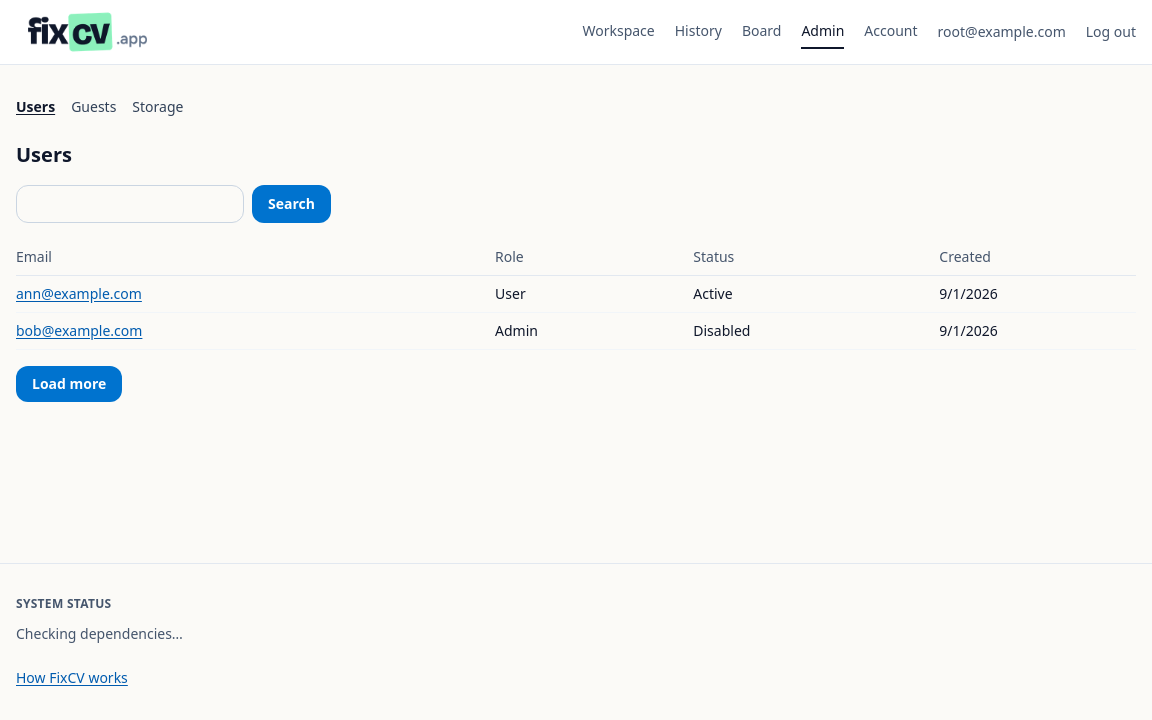
Test case: /admin user list — AC-32 search › submitting writes ?q= to the URL and refetches from page 1 with that q
Expected: the link "bob@example.com" is shown, [16,321,142,340]
Type "ann" into the search field named "Search by email" at point(130, 204), box [16,185,244,223]
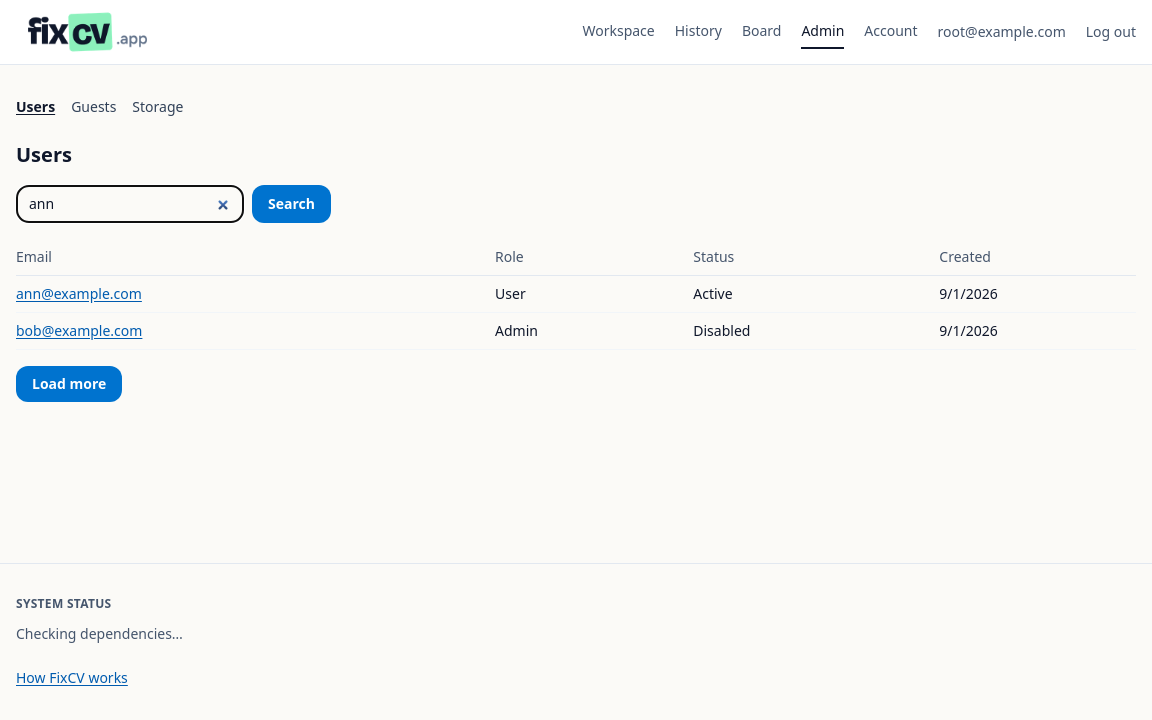
Click the button "Search" at point(291, 204), box [252,185,331,223]
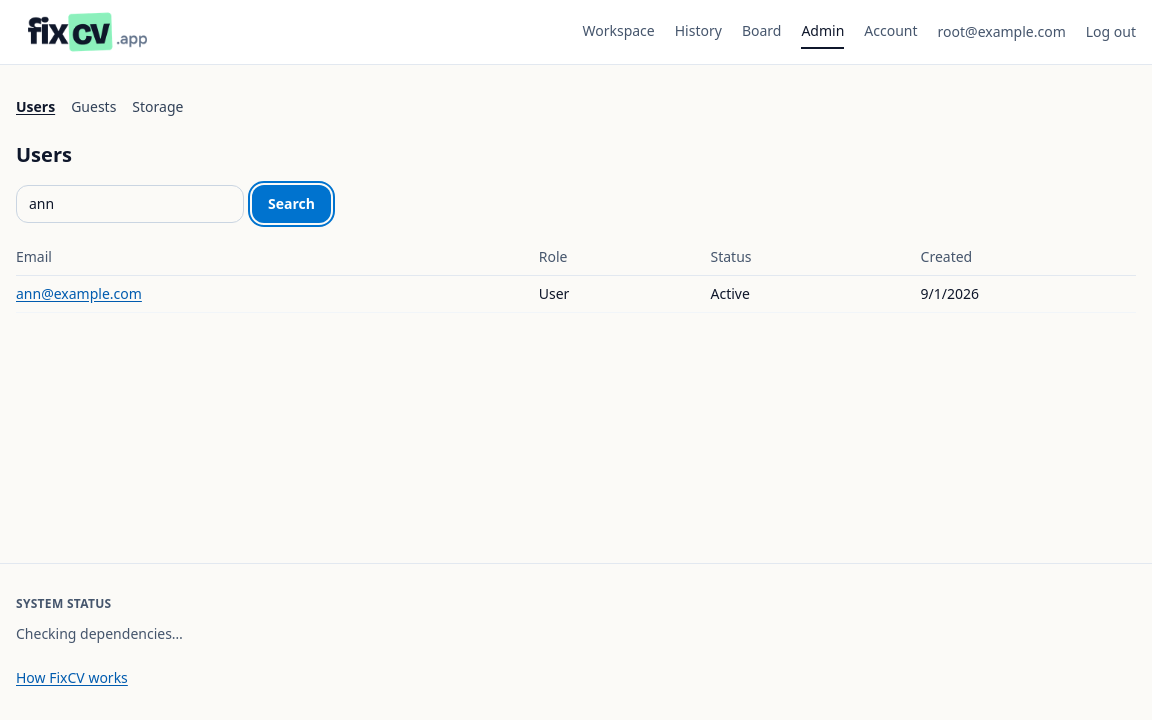
Now the link "bob@example.com" is gone
